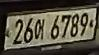2: (12, 17, 24, 46)
6: (50, 14, 61, 39), (24, 17, 34, 43)
7: (60, 12, 70, 39)
8: (71, 13, 79, 38)
9: (80, 10, 89, 38)
어: (34, 17, 45, 41)
